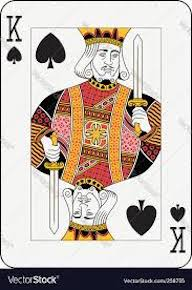KingOfSpades: (1, 1, 192, 266)
